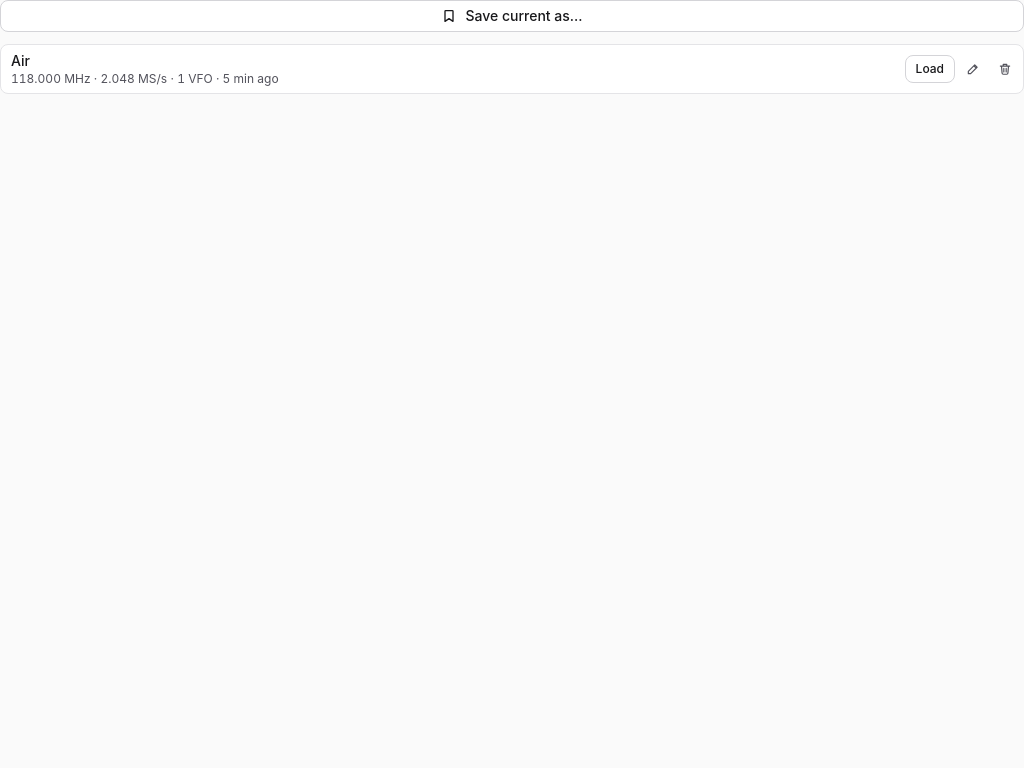
Test: ProfilesPanel › only informs when other holders keep the lock
The width and height of the screenshot is (1024, 768).
Click the button with aria-label "Load profile Air": (930, 69) [905,55,955,83]
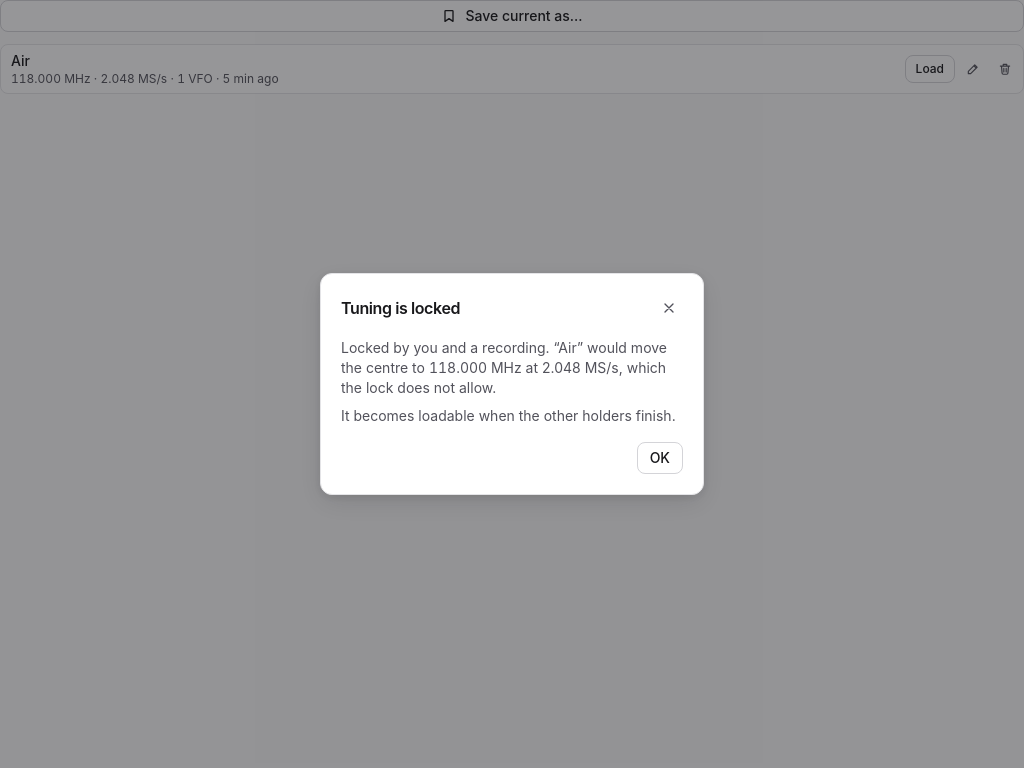
Expected: the dialog "Tuning is locked" shows "Locked by you and a recording", [341,339,546,356]
Click the button "OK": (660, 458) [637,442,683,474]
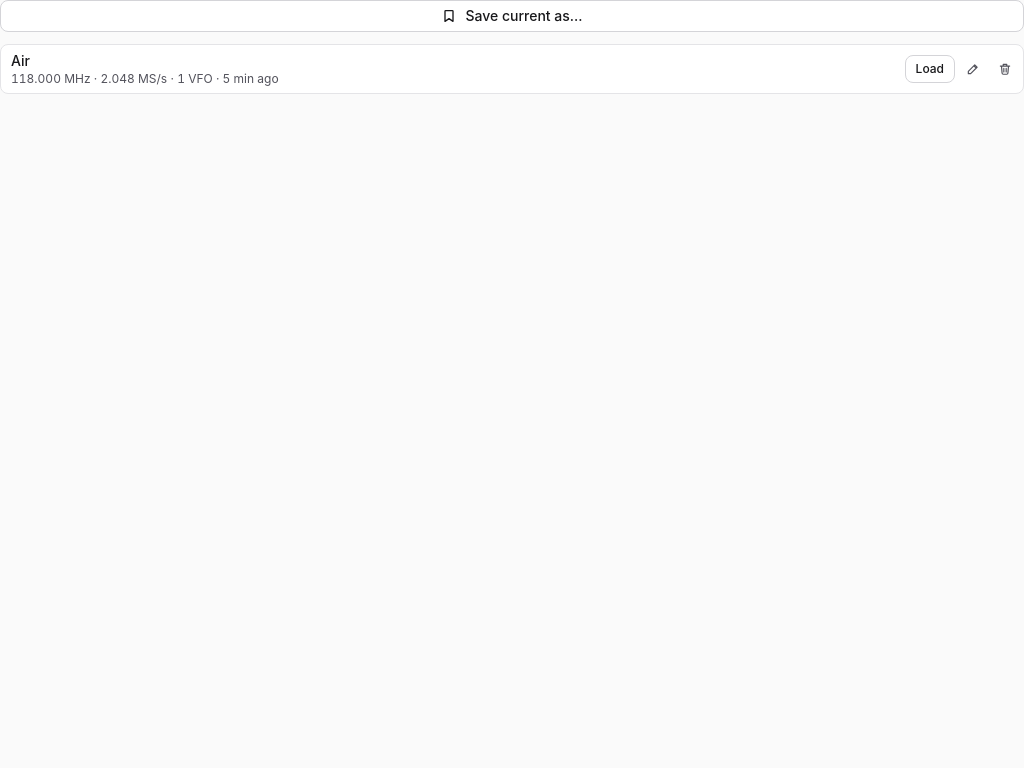
Expected: the dialog is gone
